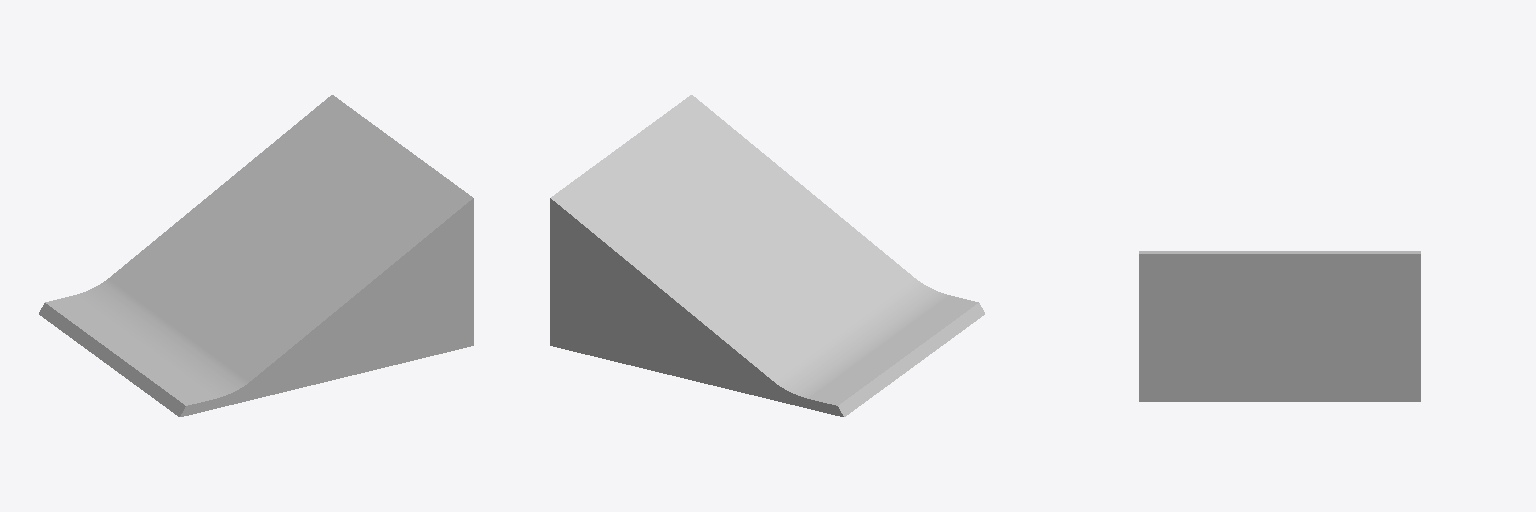
Rendered from slope3.obj.
The picture shows the model from 3 angles: view 1: azimuth 30°, elevation 25°; view 2: azimuth 150°, elevation 25°; view 3: azimuth 270°, elevation 25°; orthographic projection.
Visible parts, largest first — view 1: 立方体; view 2: 立方体; view 3: 立方体.
Boxes of the visible parts, box(x1,y1,x2,y2) form: 立方体: box(39, 95, 473, 416); 立方体: box(550, 95, 984, 416); 立方体: box(1139, 251, 1420, 401).
Bounding box in the file's own units: 2.4 × 1.15 × 2.